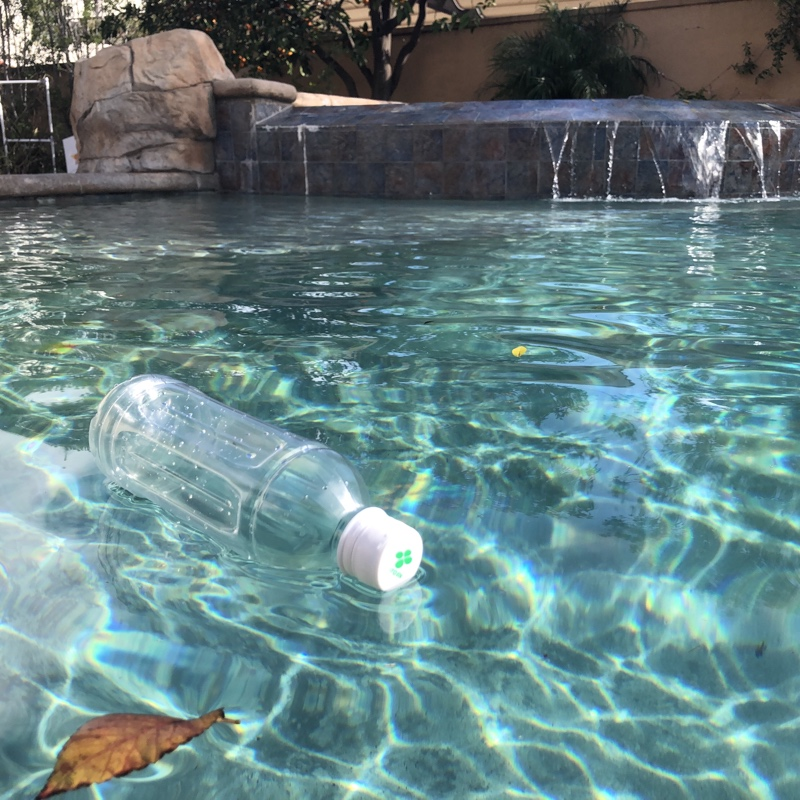Plastic Bottle: (84, 366, 431, 602)
